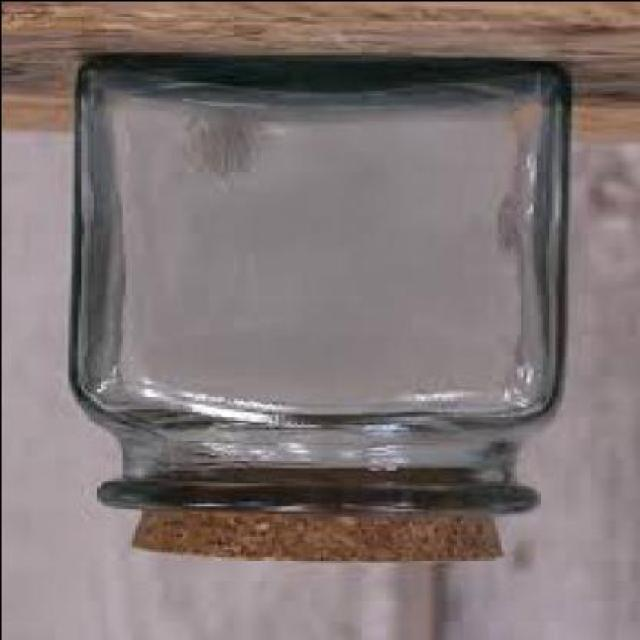GLASS: (67, 56, 573, 518)
